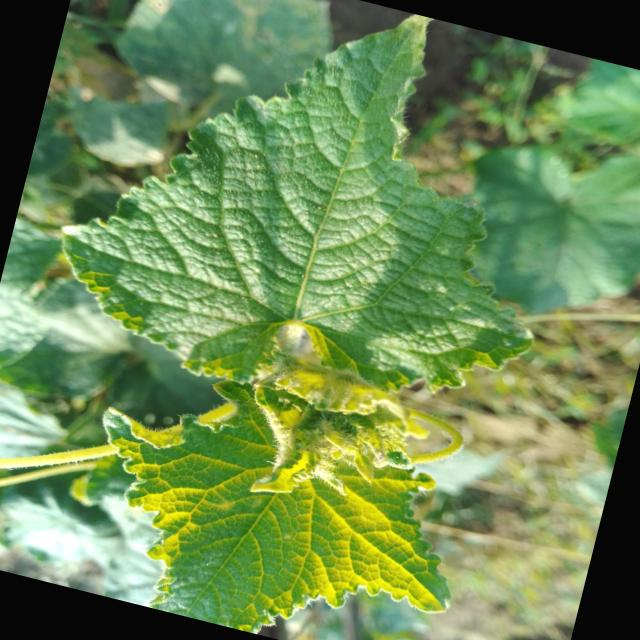cucumber_healthy: (32, 0, 607, 456), (57, 354, 491, 640)
